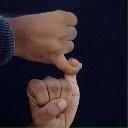hand: (7, 9, 82, 74), (27, 58, 80, 128)
